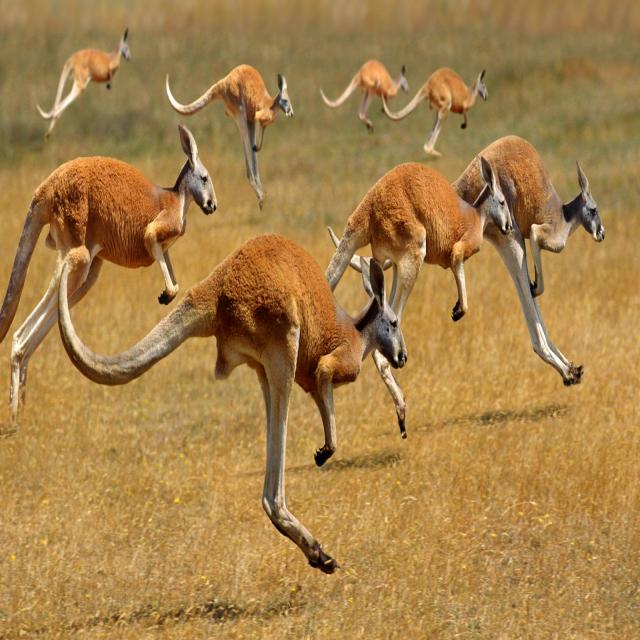kangaroo: (58, 235, 407, 572), (0, 128, 216, 411), (452, 135, 605, 384), (325, 162, 512, 321), (166, 64, 294, 208), (37, 28, 130, 138), (382, 68, 488, 156), (321, 60, 408, 130)
